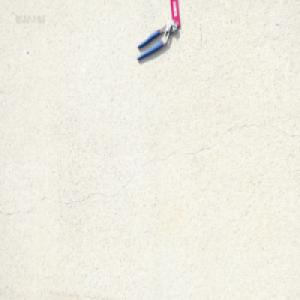Label: (169, 0, 181, 30)
Pliers: (136, 18, 178, 61)
